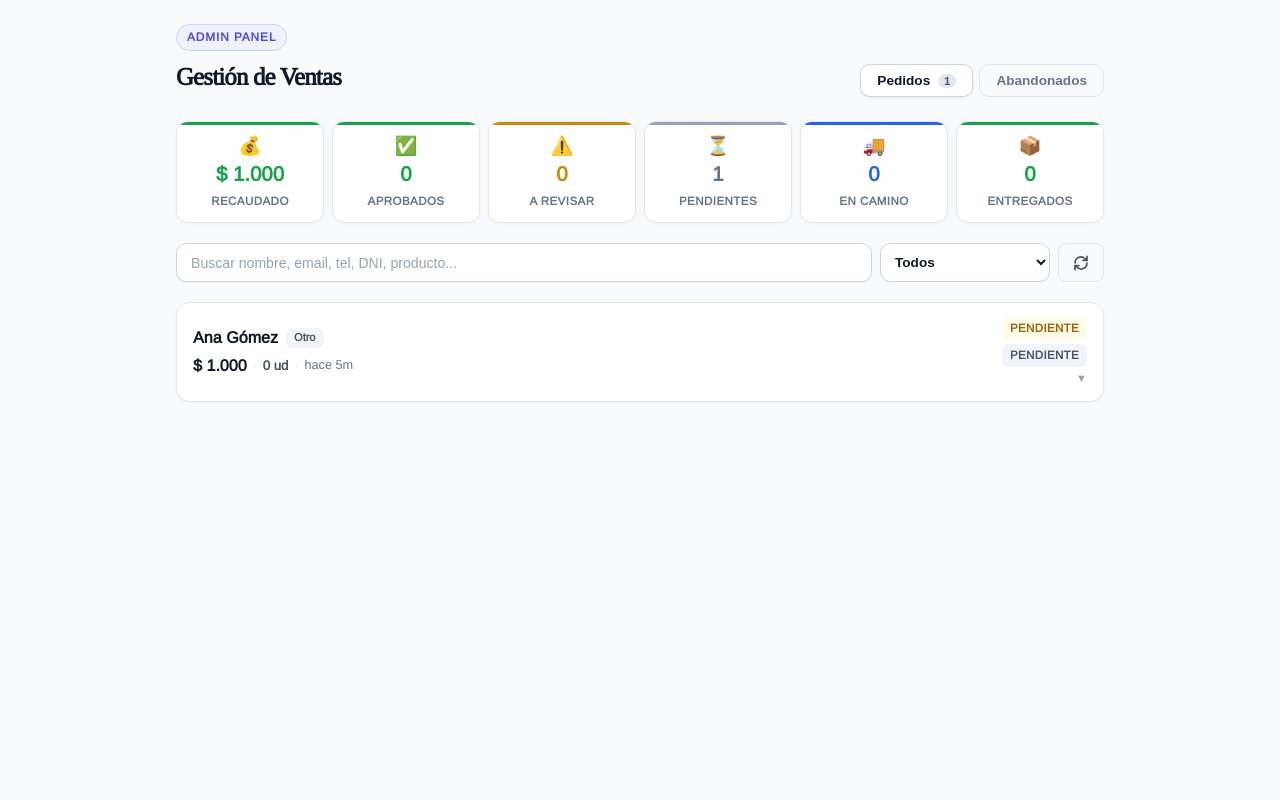
Test: AdminOrders (integración con hooks y panel) › lista los pedidos y pasa a abandonados, donde recuperar pide confirmación
Expected: the text "Ana Gómez" is shown, [193, 326, 278, 350]
Click the button "Abandonados": (1042,80) [979, 64, 1104, 97]
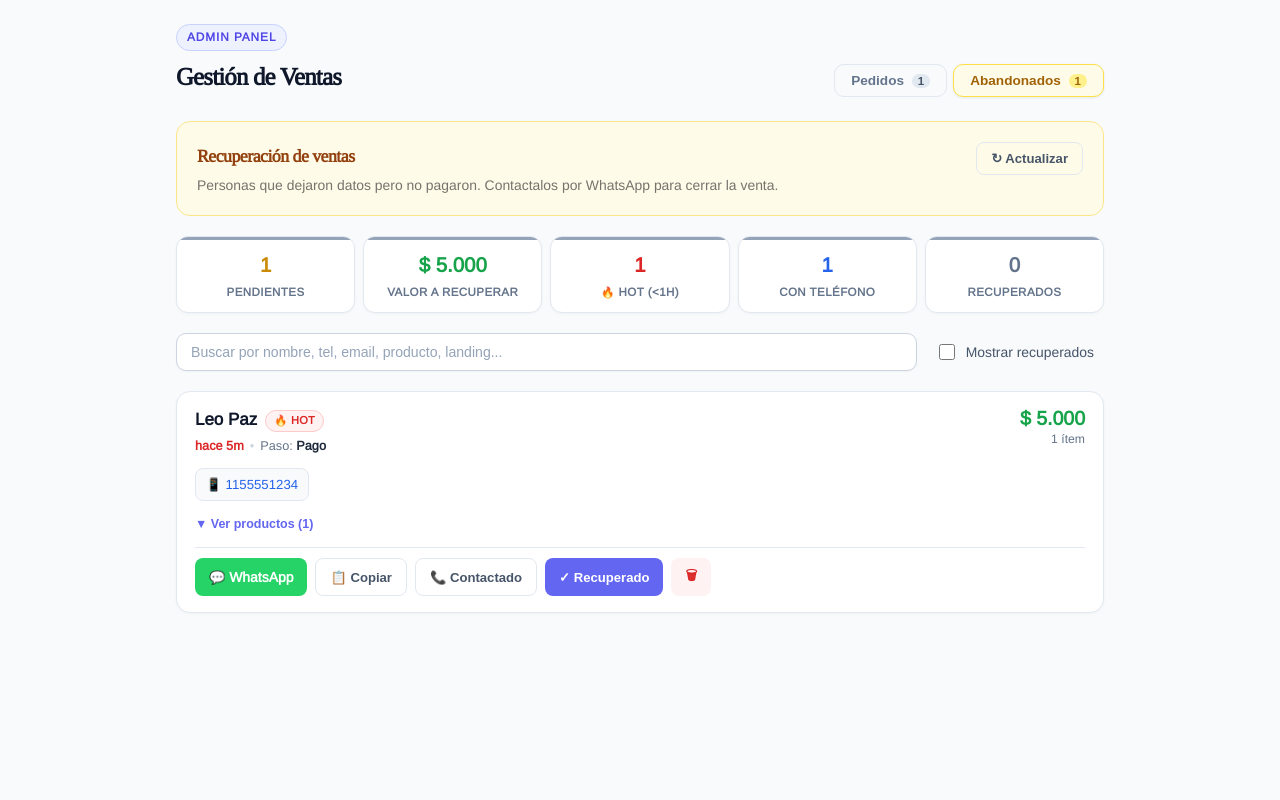
Expected: the text "🔥 HOT" is shown, [265, 410, 324, 432]
Expected: the text "Pago" is shown, [296, 438, 326, 453]
Click the button "✓ Recuperado": (604,577) [545, 558, 664, 596]
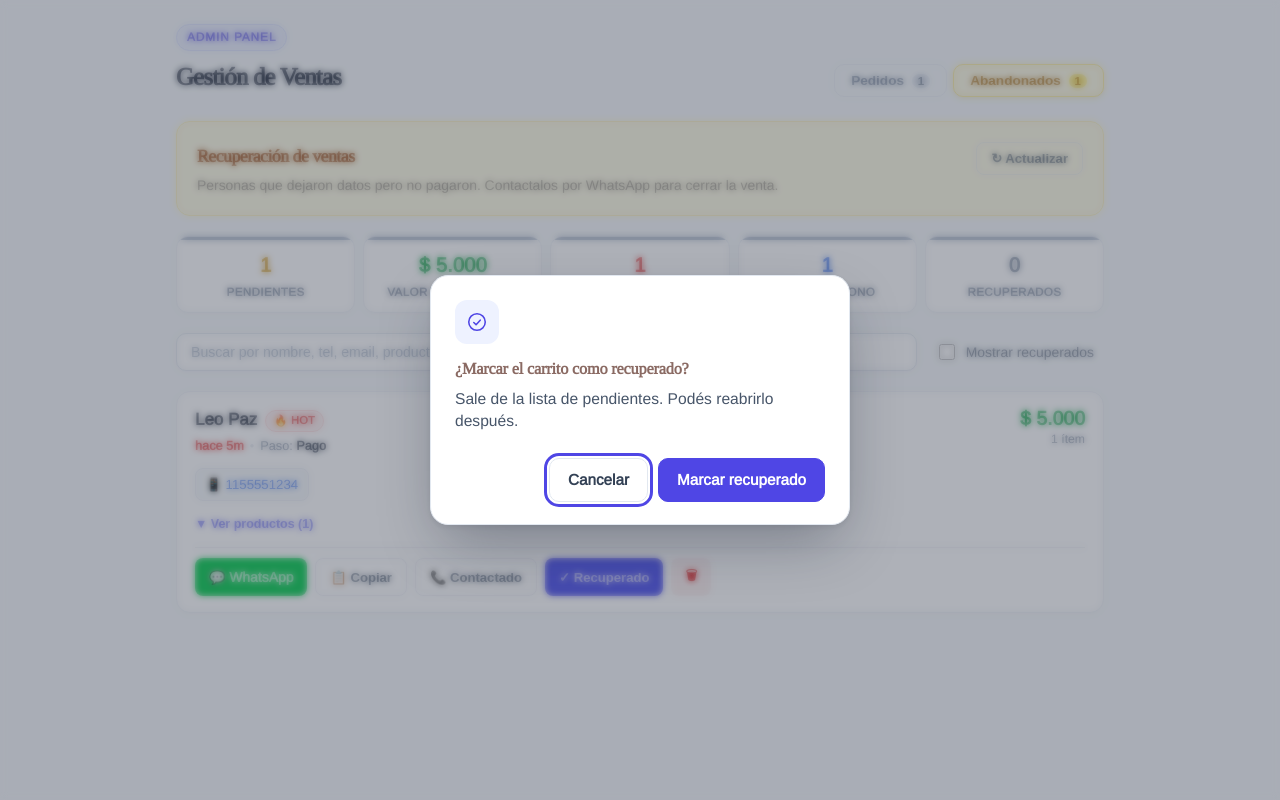
Click the button "Marcar recuperado": (742,480) [658, 458, 825, 502]
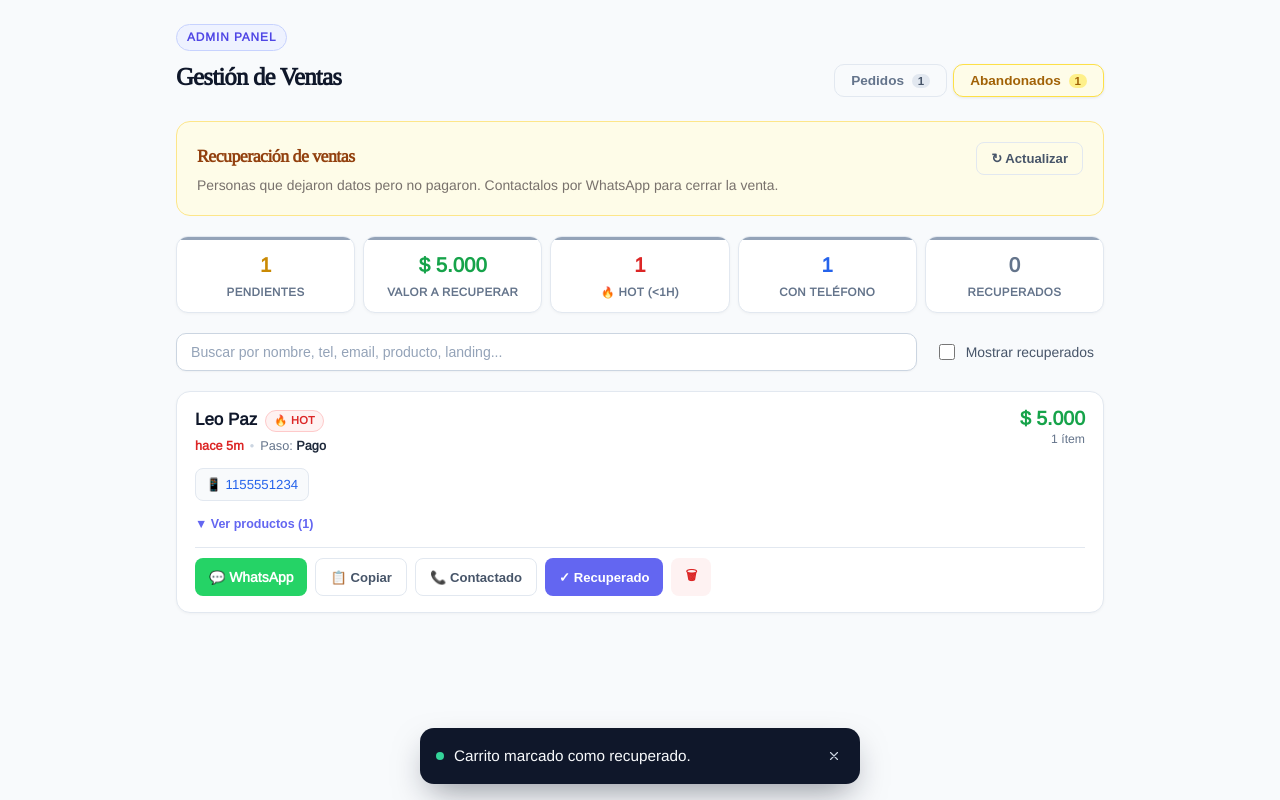
Expected: the text "Carrito marcado como recuperado." is shown, [454, 747, 691, 764]
